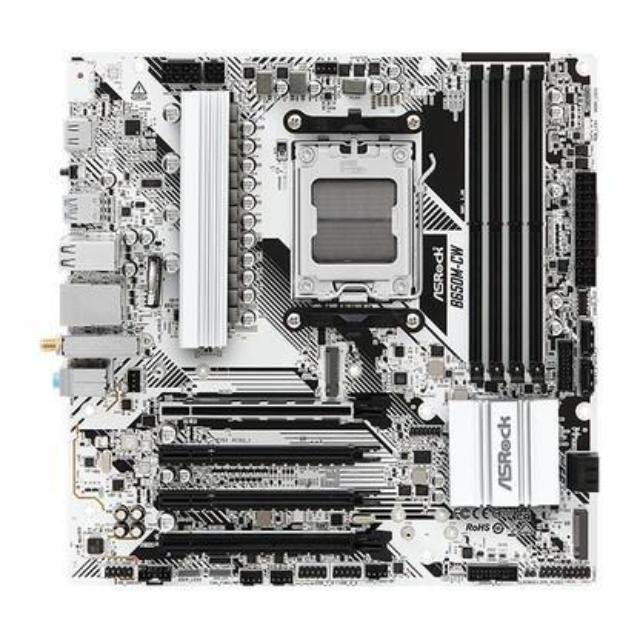Mainboard: (44, 41, 604, 601)
